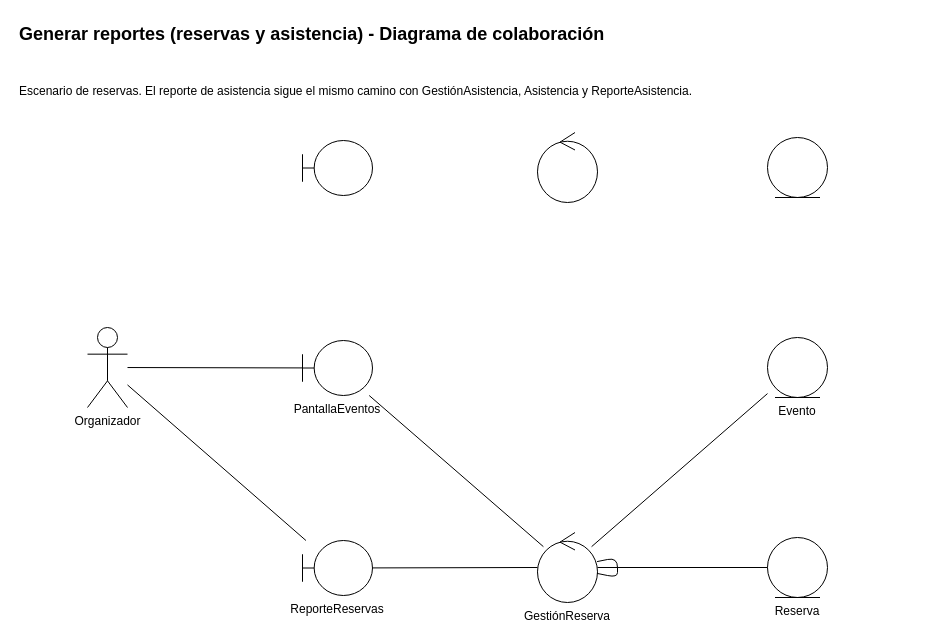
The diagram is 934 pixels wide and 640 high, and some of its shapes have lost their labels. The shapes that lost their labels are listed below. From the top down, each one's centre as x and y in pixels, then its label:
At (x=337, y=168): "ReporteAsistencia".
At (x=567, y=167): "GestiónAsistencia".
At (x=797, y=167): "Asistencia".
